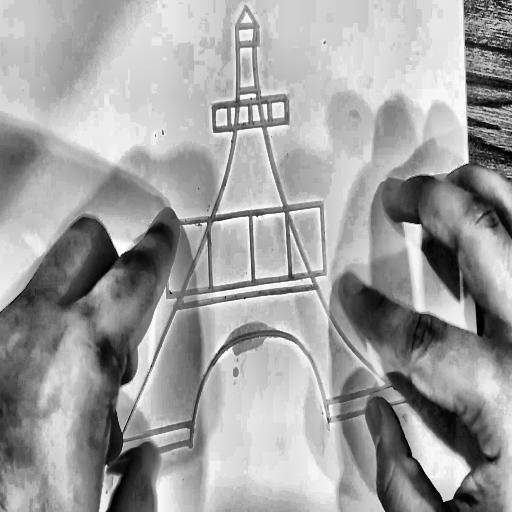eiffel-tower: (73, 0, 431, 484)
